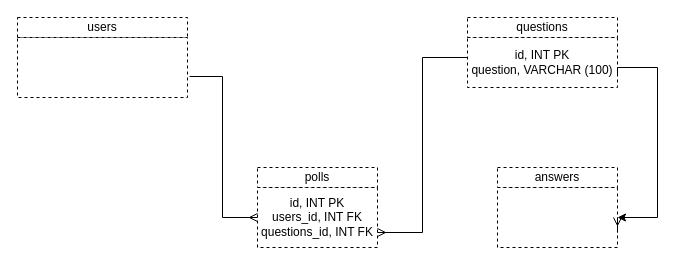
This 683x265 diagram has some shape labels left out. Each missing label, with the centre of its shape:
id, INT PK name, VARCHAR (100): pixel 102 67
id, INT PK questions_id, INT FK answer: pixel 557 217
